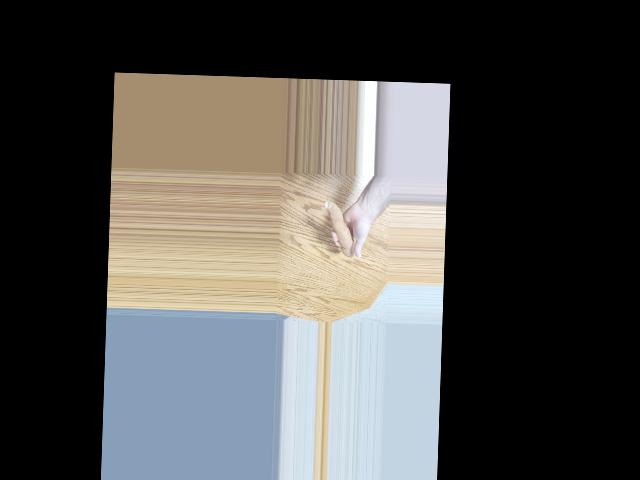sweet_potato: (323, 199, 354, 260)
